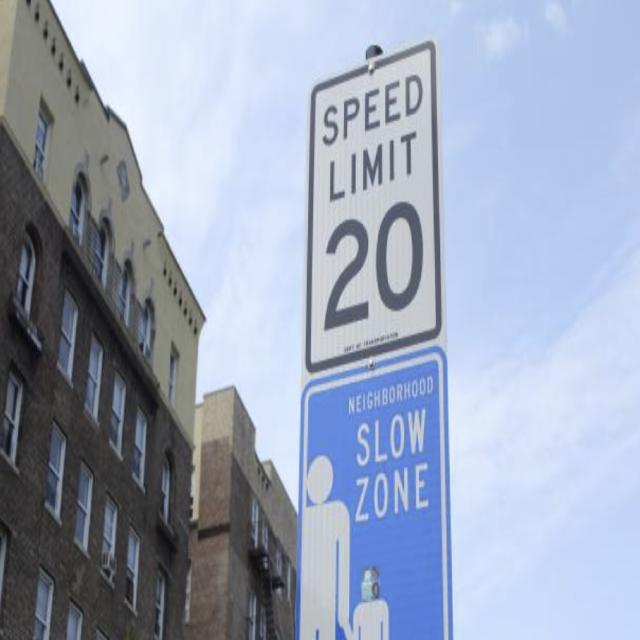speedLimit20: (306, 44, 433, 371)
